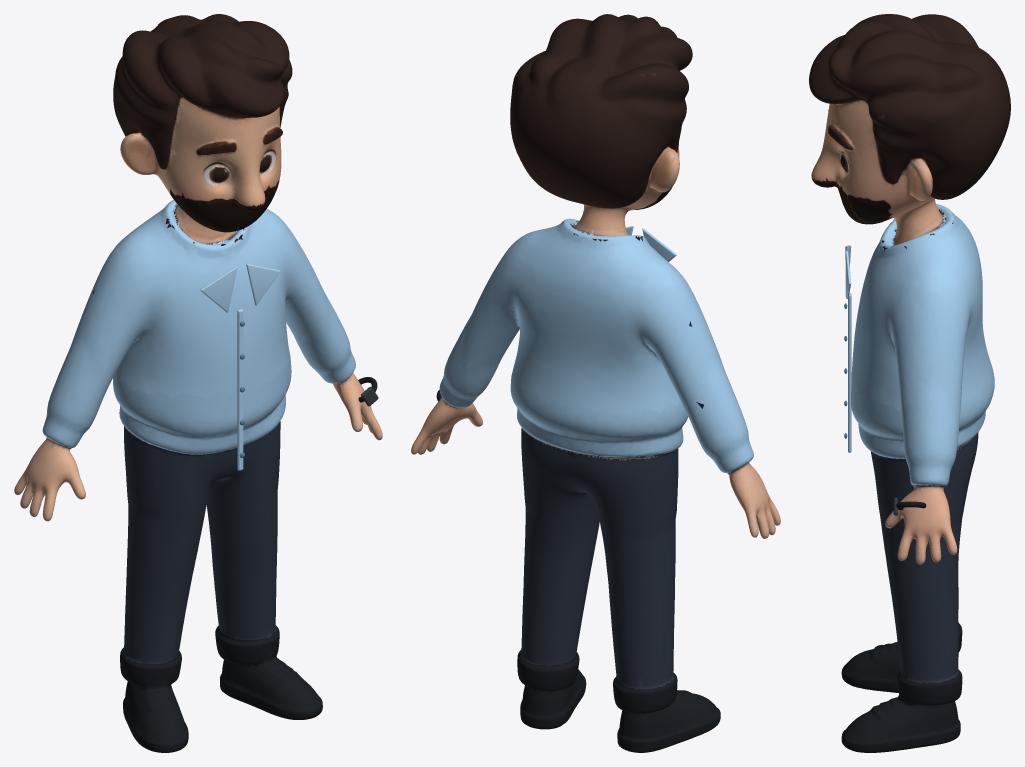
Rendered from AbdullahEkinci_GameReady_Unrigged.fbx.
3 renders of one model, left to right at view 1: azimuth 30°, elevation 25°; view 2: azimuth 150°, elevation 25°; view 3: azimuth 270°, elevation 25°, orthographic.
Visible parts, largest first — view 1: AbdullahEkinci_Static; view 2: AbdullahEkinci_Static; view 3: AbdullahEkinci_Static.
Part boxes in pixels (bbox=[...]): AbdullahEkinci_Static: bbox=[14, 14, 382, 752]; AbdullahEkinci_Static: bbox=[411, 14, 780, 752]; AbdullahEkinci_Static: bbox=[809, 14, 1010, 752].
Size of the model in its own units: 100 by 190 by 50.81.
9 materials, 1 textured.
